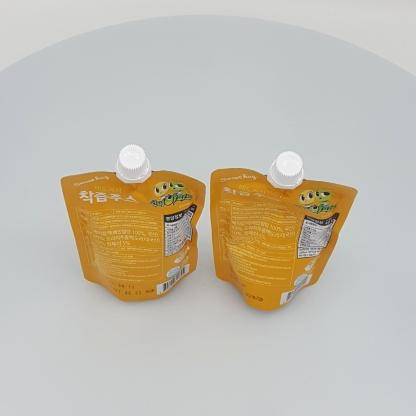-------------------100ML: (210, 150, 358, 311), (61, 144, 206, 302)
